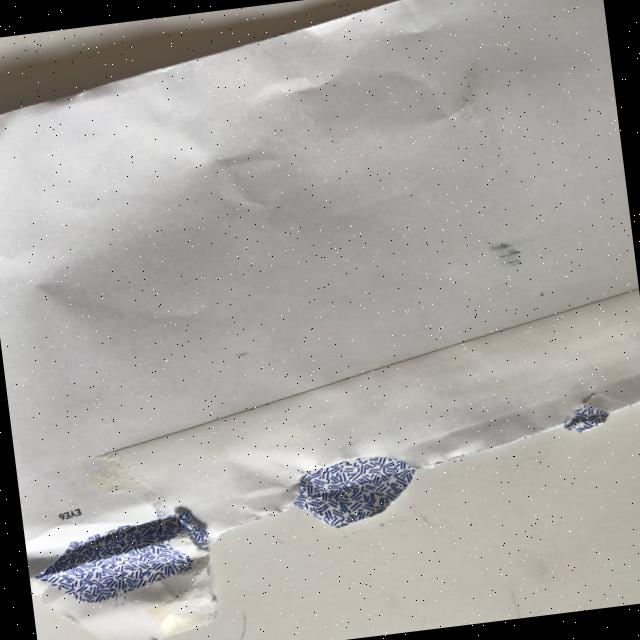paper: (0, 0, 640, 640), (288, 449, 422, 533)
